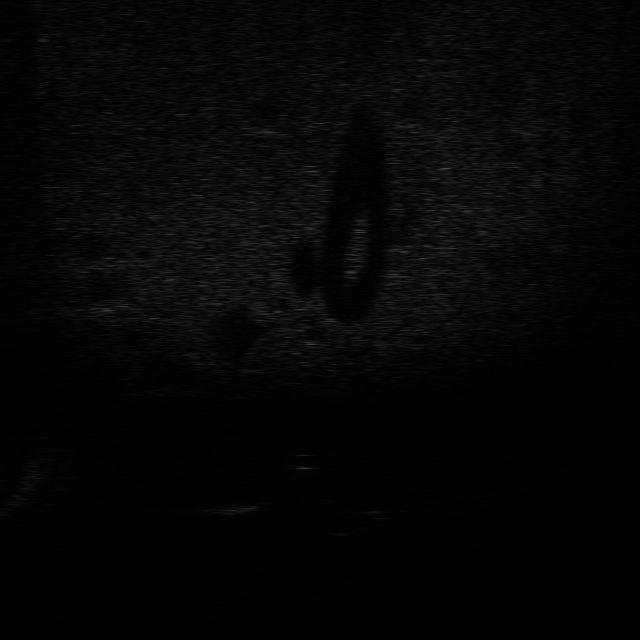ball: (275, 448, 326, 475)
square cage: (196, 492, 272, 524)
tyre: (310, 504, 390, 542)
